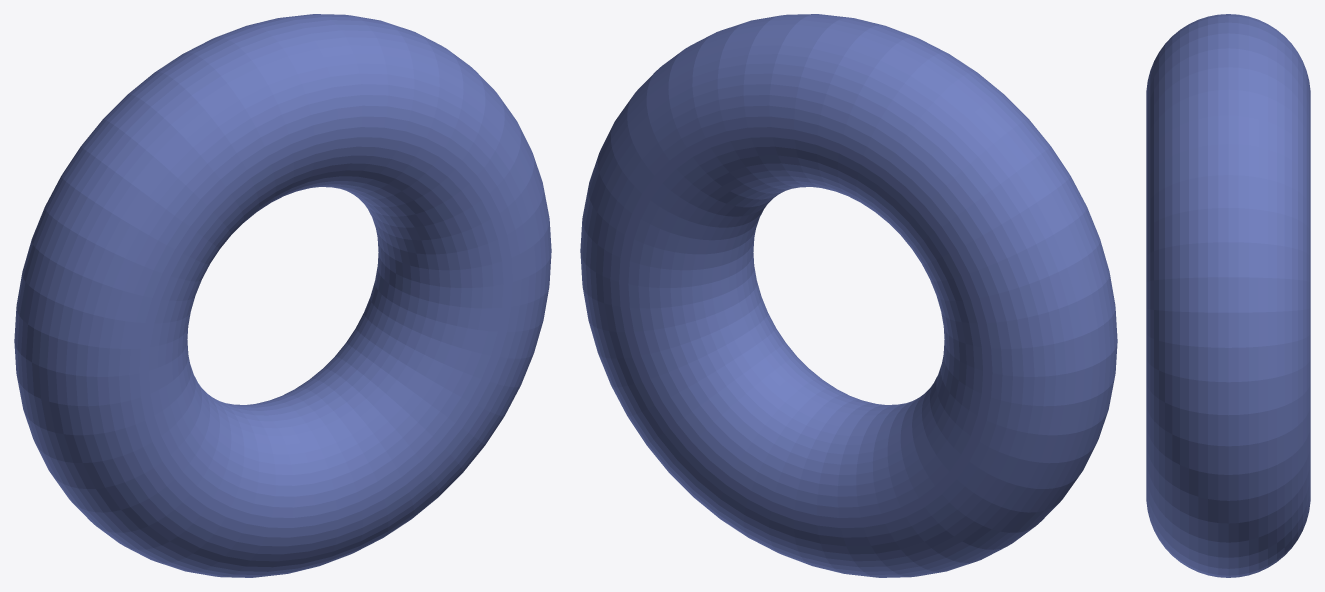
3 renders of one model, left to right at view 1: azimuth 30°, elevation 25°; view 2: azimuth 150°, elevation 25°; view 3: azimuth 270°, elevation 25°, orthographic. The views are drawn at different scales.
Parts seen in each view (by area): view 1: world; view 2: world; view 3: world.
Part boxes in pixels (x1,y1,x2,y2): world: [14, 14, 551, 577]; world: [580, 14, 1117, 577]; world: [1146, 14, 1310, 577].
Bounding box in the file's own units: 16 × 15.97 × 4.66.
